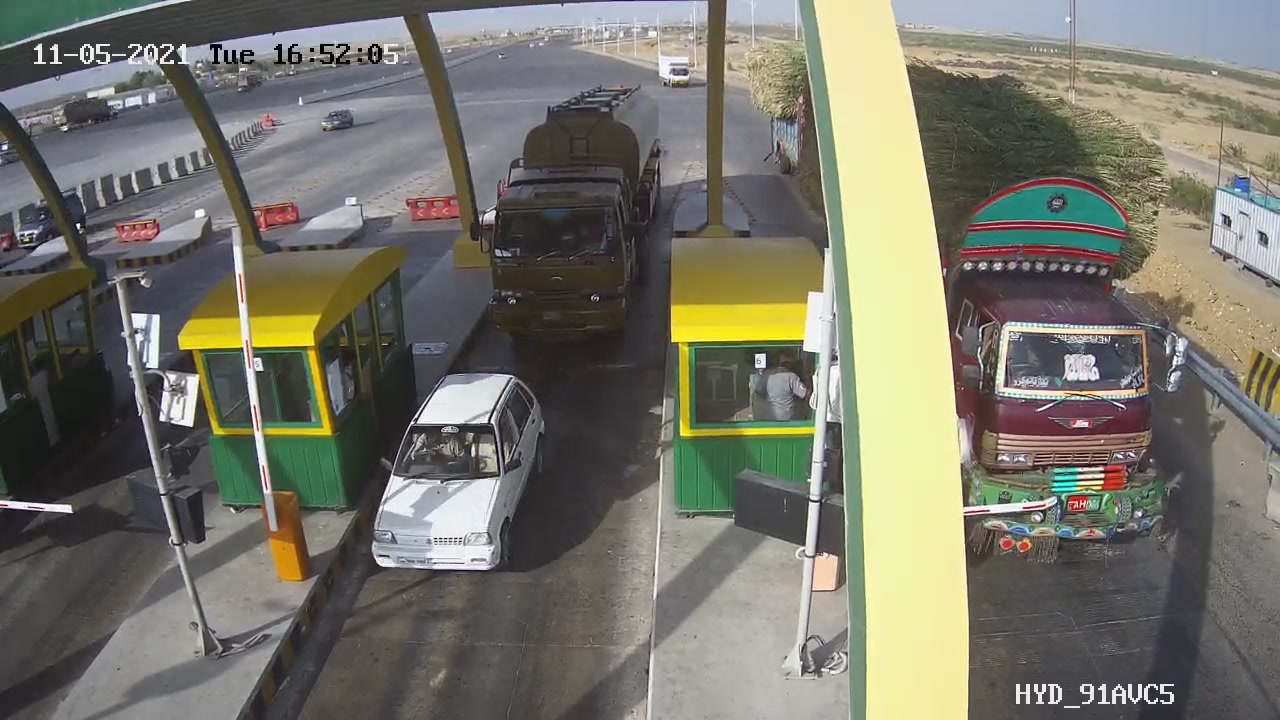F1: (349, 358, 571, 588)
F6: (484, 65, 671, 350)
